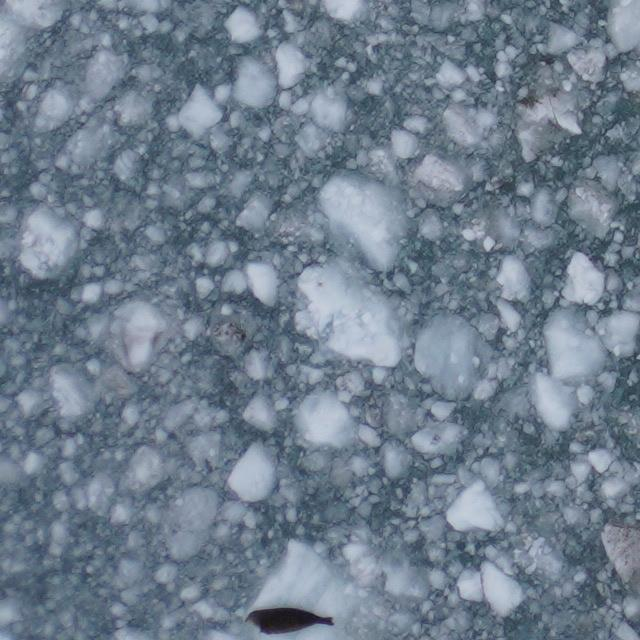seal: (242, 604, 338, 638)
